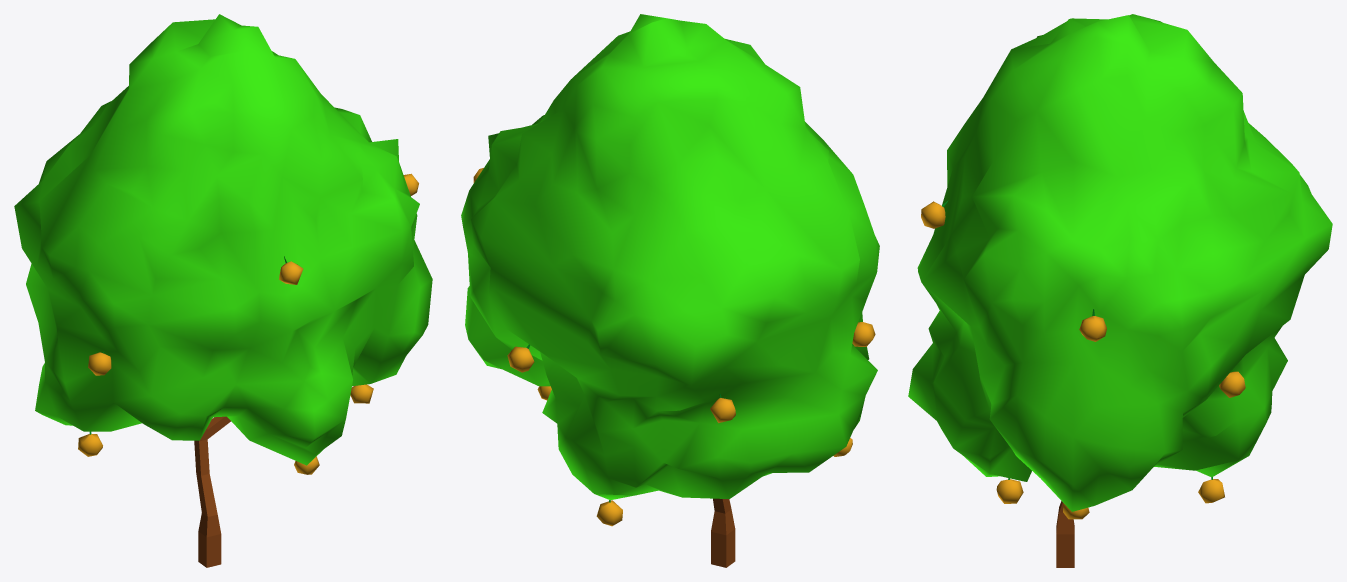
File: SM_OrangeTree_002_LOD3.fbx
3 renders of one model, left to right at view 1: azimuth 30°, elevation 25°; view 2: azimuth 150°, elevation 25°; view 3: azimuth 270°, elevation 25°, orthographic. The views are drawn at different scales.
Visible parts, largest first — view 1: OrangeTree_02; view 2: OrangeTree_02; view 3: OrangeTree_02.
Boxes of the visible parts, bbox=[...] form: OrangeTree_02: bbox=[14, 14, 432, 567]; OrangeTree_02: bbox=[461, 14, 879, 567]; OrangeTree_02: bbox=[908, 14, 1332, 567].
Bounding box in the file's own units: 290 × 391 × 264.
